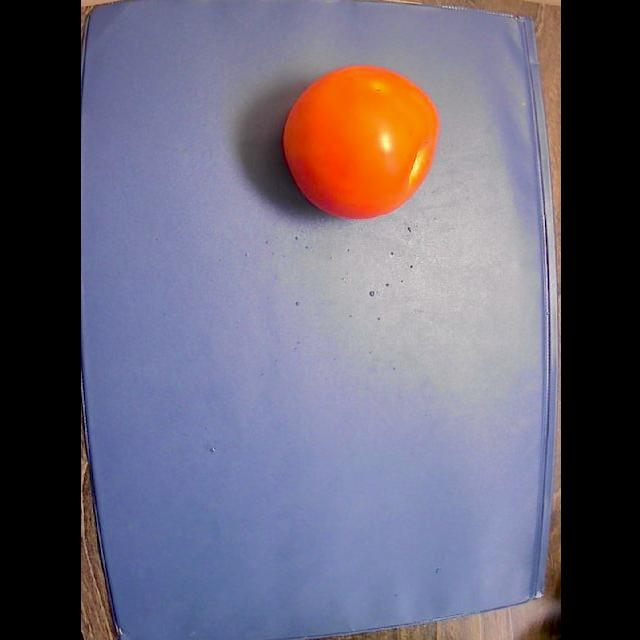tomate: (283, 65, 439, 219)
